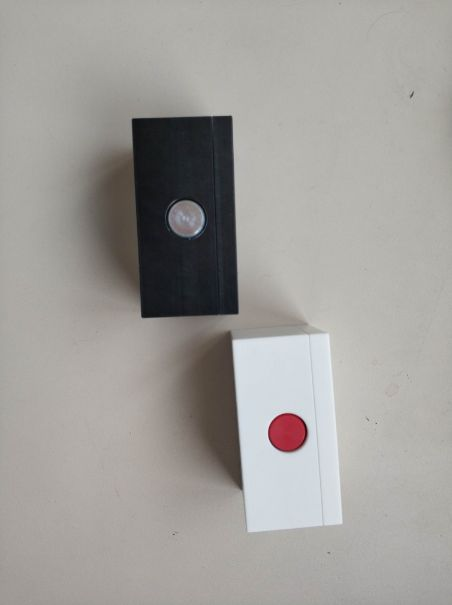black+black+silver: (129, 113, 245, 317)
white+white+red: (226, 323, 347, 537)
